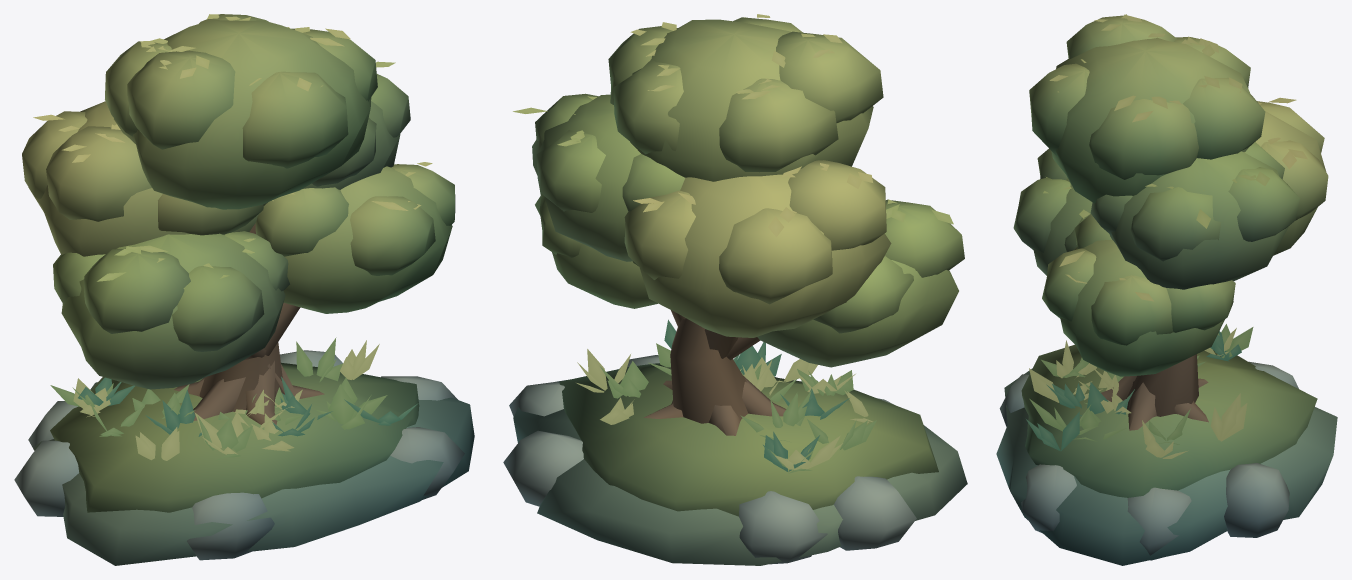
File: amber_fig.glb
3 views of the same model, side by side, from view 1: azimuth 30°, elevation 25°; view 2: azimuth 150°, elevation 25°; view 3: azimuth 270°, elevation 25° (orthographic). The views are drawn at different scales.
Parts seen in each view (by area): view 1: amber_fig; view 2: amber_fig; view 3: amber_fig.
Boxes of the visible parts, bbox=[...] form: amber_fig: bbox=[14, 14, 474, 565]; amber_fig: bbox=[503, 14, 967, 565]; amber_fig: bbox=[996, 14, 1337, 565].
Bounding box in the file's own units: 3.84 × 4.22 × 2.9.
